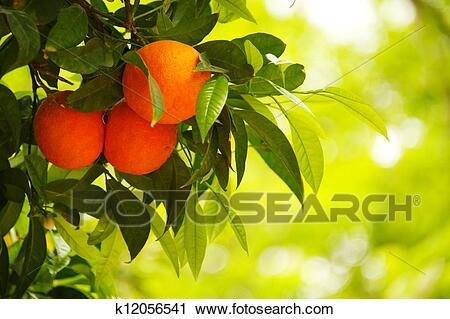orange: (121, 40, 210, 122), (32, 89, 106, 169), (102, 98, 178, 175)
